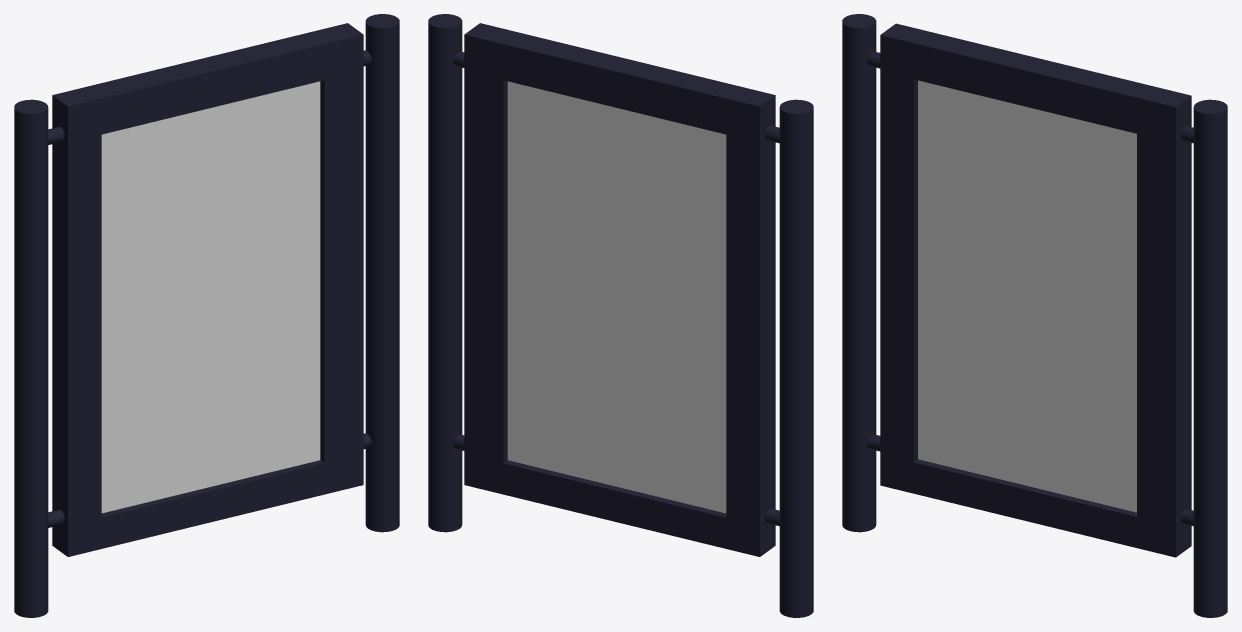
The model's file is Werbetafel.fbx.
3 views of the same model, side by side, from view 1: azimuth 30°, elevation 25°; view 2: azimuth 150°, elevation 25°; view 3: azimuth 330°, elevation 25° (orthographic).
Visible parts, largest first — view 1: Tafel_Senkrecht, pCylinder7, pCylinder3; view 2: Tafel_Senkrecht, pCylinder7, pCylinder3; view 3: Tafel_Senkrecht, pCylinder3, pCylinder7.
Boxes of the visible parts, bbox=[...] form: Tafel_Senkrecht: bbox=[52, 23, 363, 556]; pCylinder7: bbox=[14, 99, 48, 617]; pCylinder3: bbox=[365, 14, 399, 532]; Tafel_Senkrecht: bbox=[464, 23, 775, 556]; pCylinder7: bbox=[779, 99, 813, 617]; pCylinder3: bbox=[428, 14, 462, 532]; Tafel_Senkrecht: bbox=[880, 23, 1191, 557]; pCylinder3: bbox=[1193, 99, 1227, 617]; pCylinder7: bbox=[842, 14, 876, 532].
Size of the model in its own units: 284 by 358 by 22.03.
